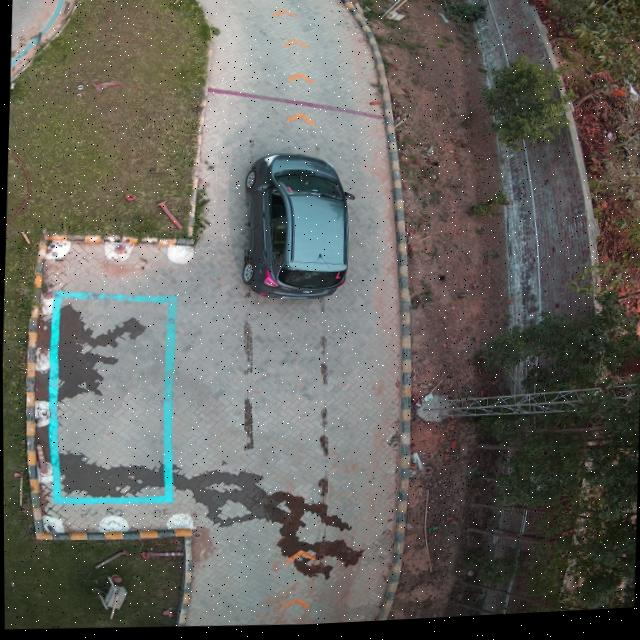car: (239, 155, 347, 303)
